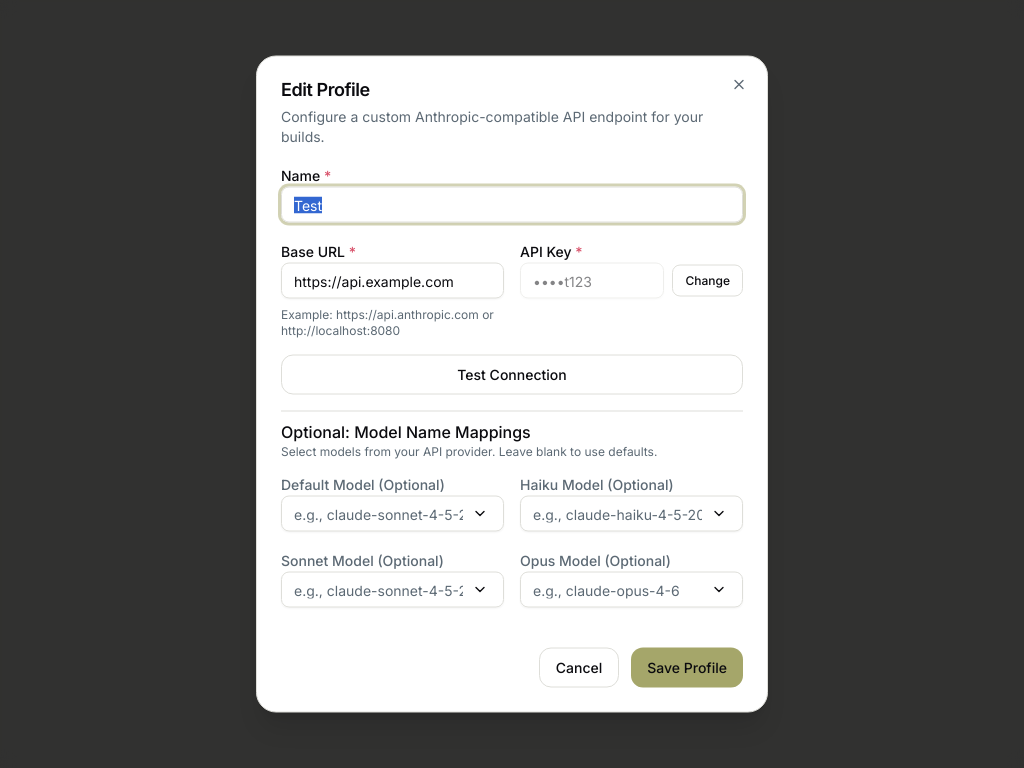
Test: ProfileEditDialog - Validation › should show inline error for invalid Base URL
The image size is (1024, 768).
# Enter invalid URL
Replace the text in the field labelled "Base URL *" with "not-a-valid-url" at (392, 280), box [281, 262, 504, 298]
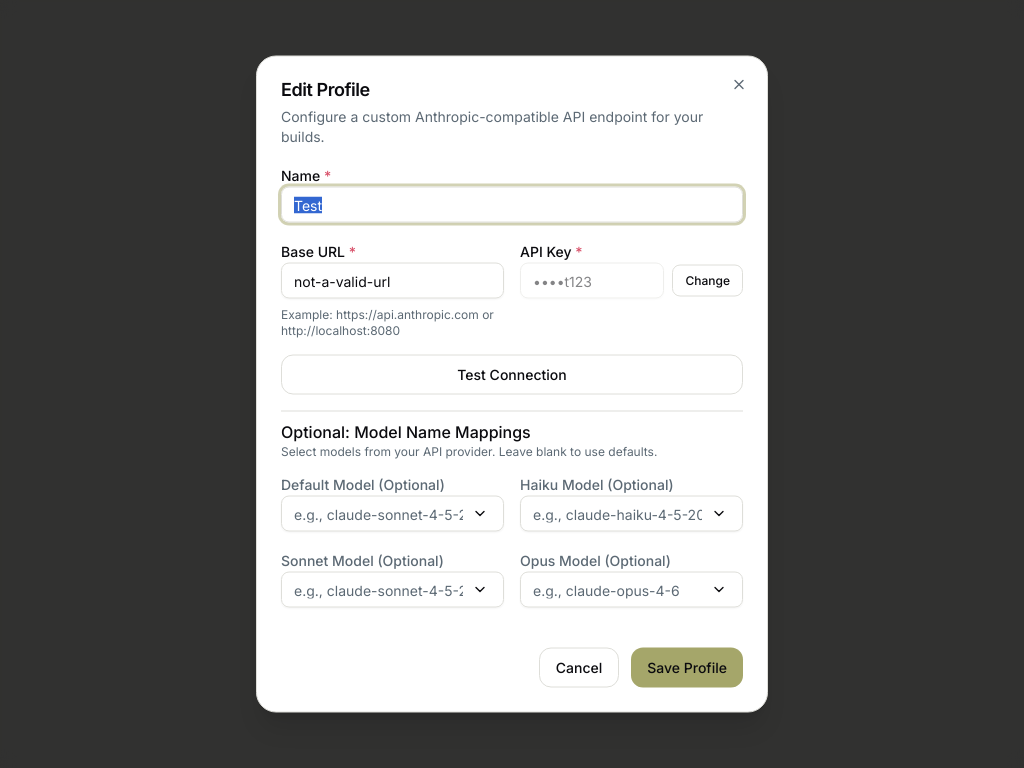
# Click save to trigger validation
Click the button "Save Profile" at (687, 668), box [631, 648, 743, 688]
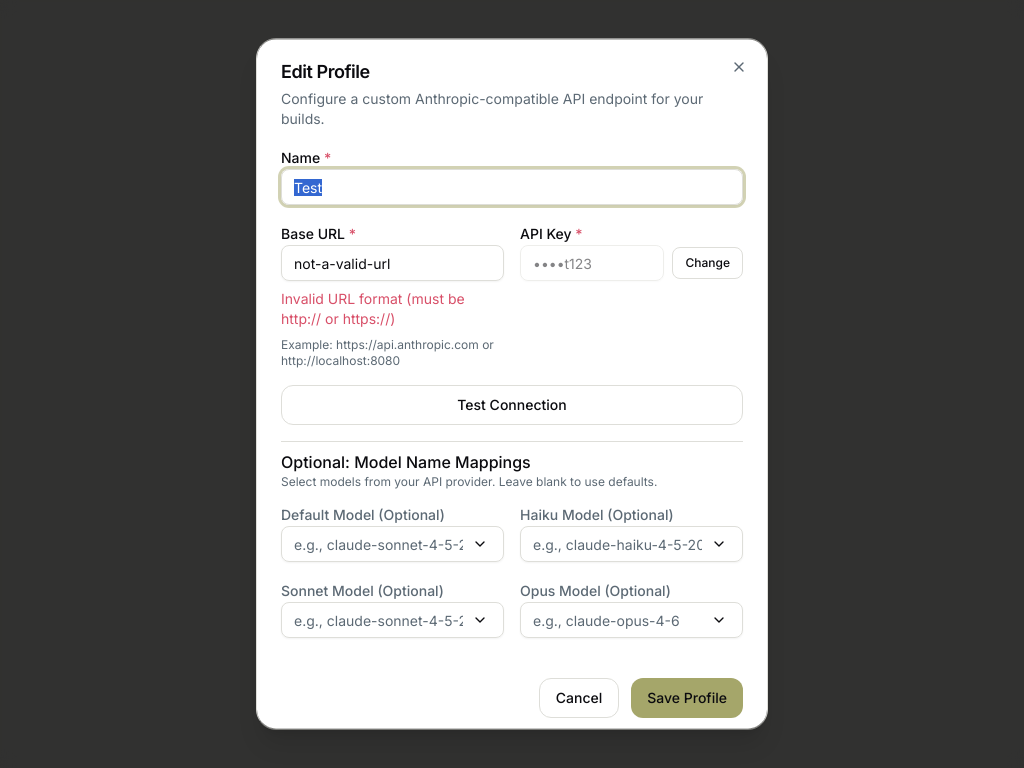
Now the text "Invalid URL format (must be http:// or https://)" is shown, box [281, 290, 465, 327]
